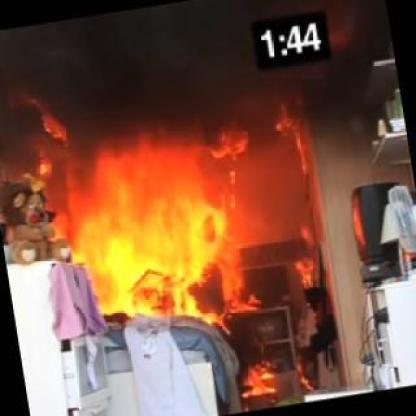Fire: (58, 148, 286, 336)
